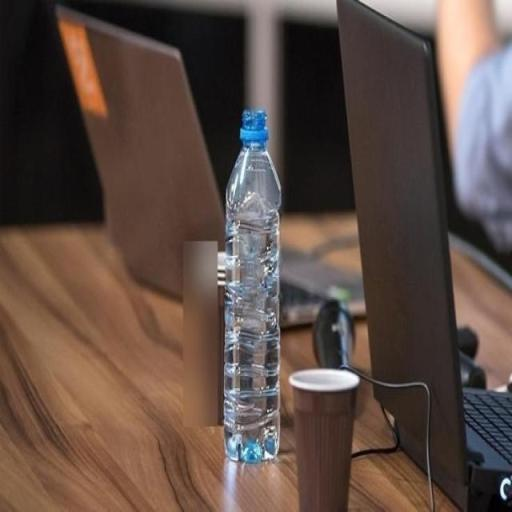plastic: (220, 106, 283, 466)
